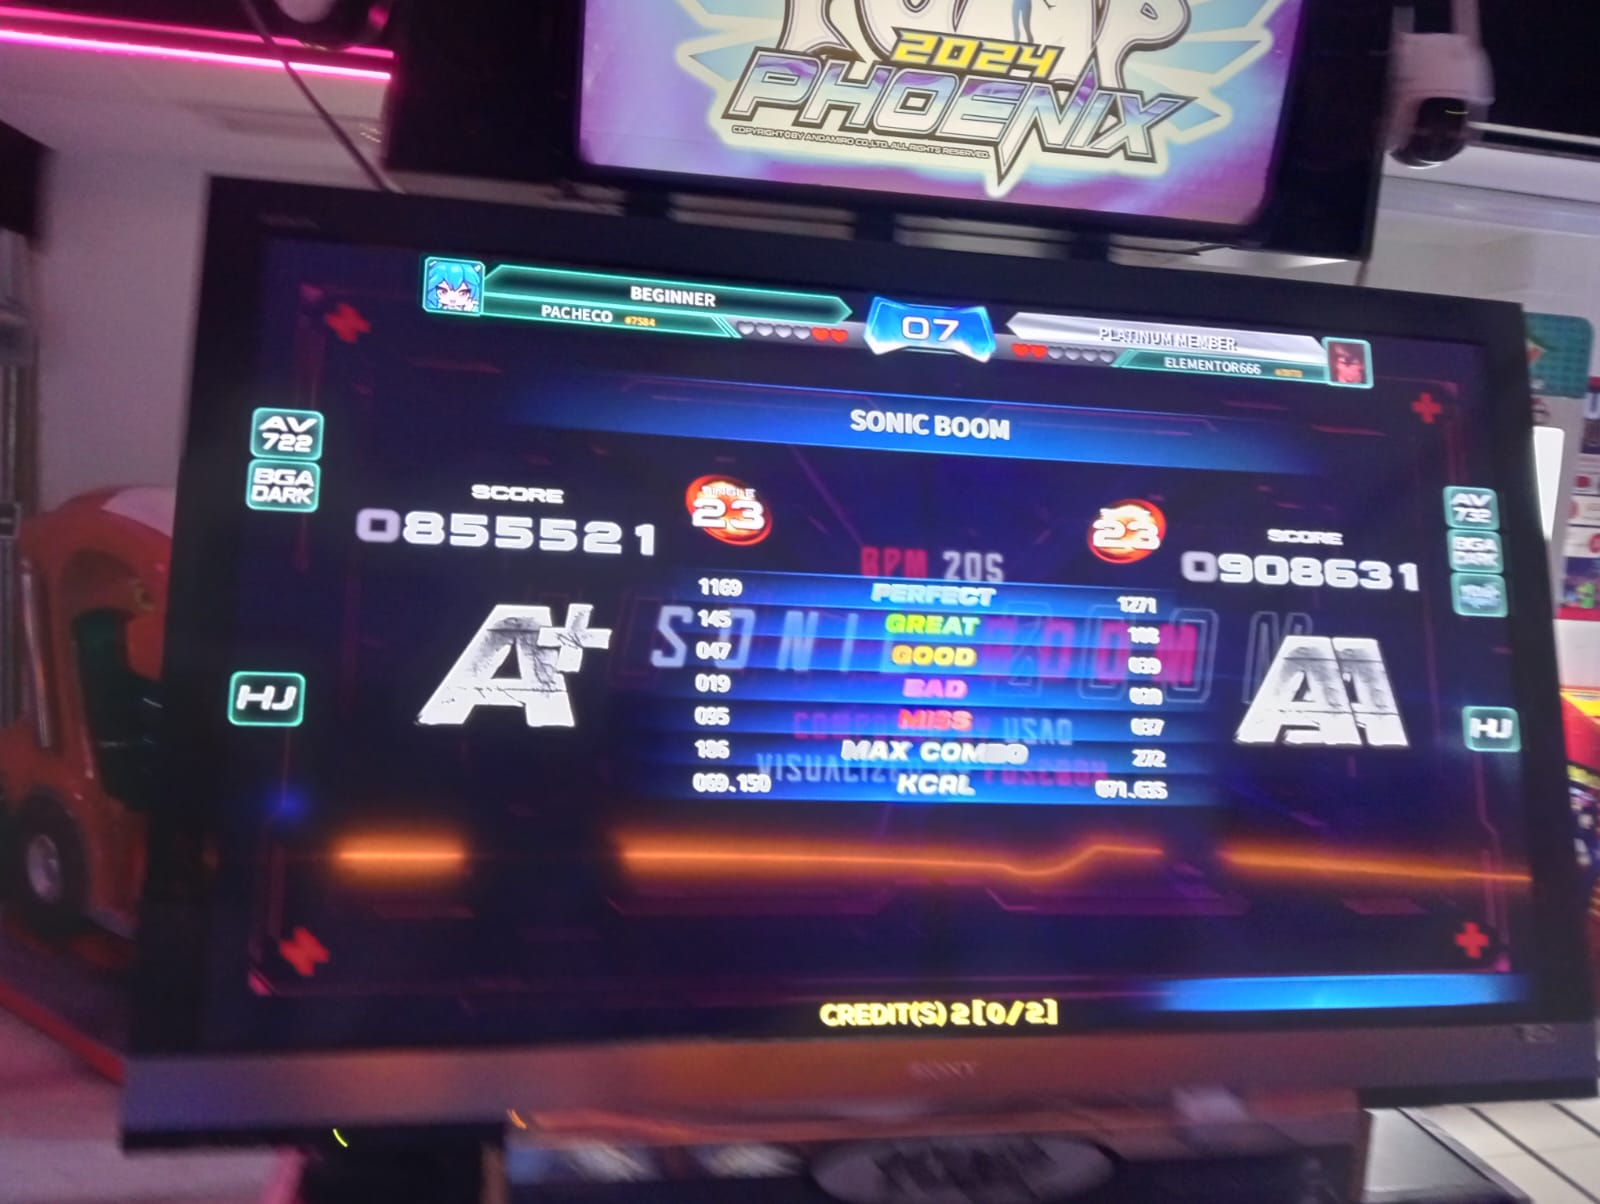difficulty: (1062, 482, 1162, 582)
fullscore: (844, 271, 1517, 985)
rank: (1221, 630, 1423, 754)
score: (1184, 520, 1436, 599)
song_name: (651, 388, 1232, 467)
